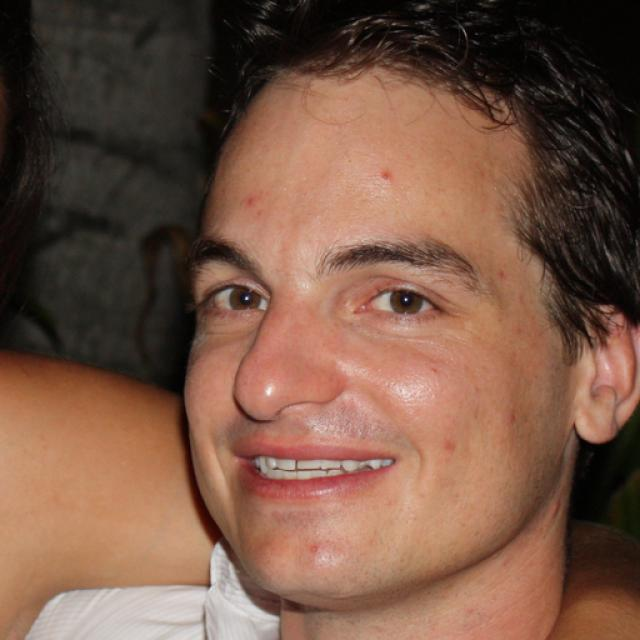Acne: (229, 189, 260, 216), (367, 164, 399, 185), (423, 365, 441, 386)
Spots: (429, 434, 470, 465), (504, 408, 523, 435), (491, 264, 508, 282)
